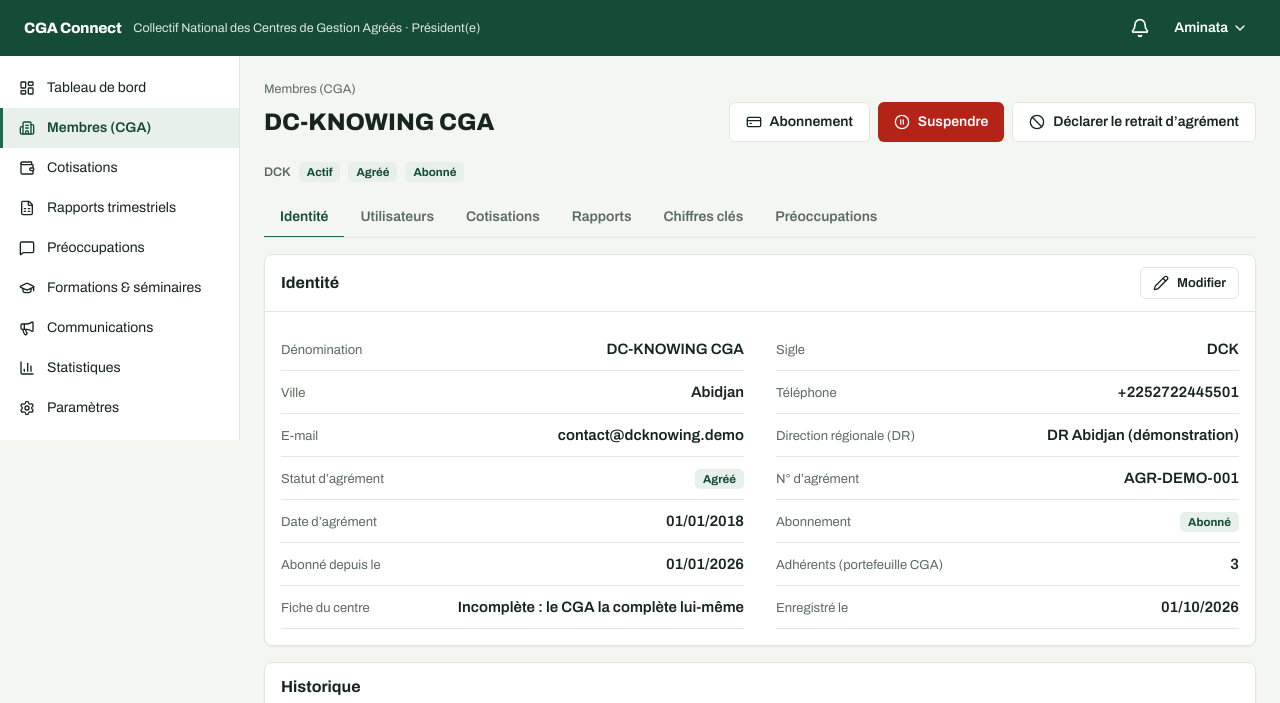
Test: Modifier la fiche en place (03-APPFLOW §3.2) › 03-APPFLOW §7 · refus 422 : sous le champ, saisie conservée, toujours en modification
The width and height of the screenshot is (1280, 703).
Expected: the heading "DC-KNOWING CGA" is shown, x1=264 y1=106 x2=494 y2=138
Click the button "Modifier".
click(1190, 283)  # box x1=1140 y1=267 x2=1239 y2=299
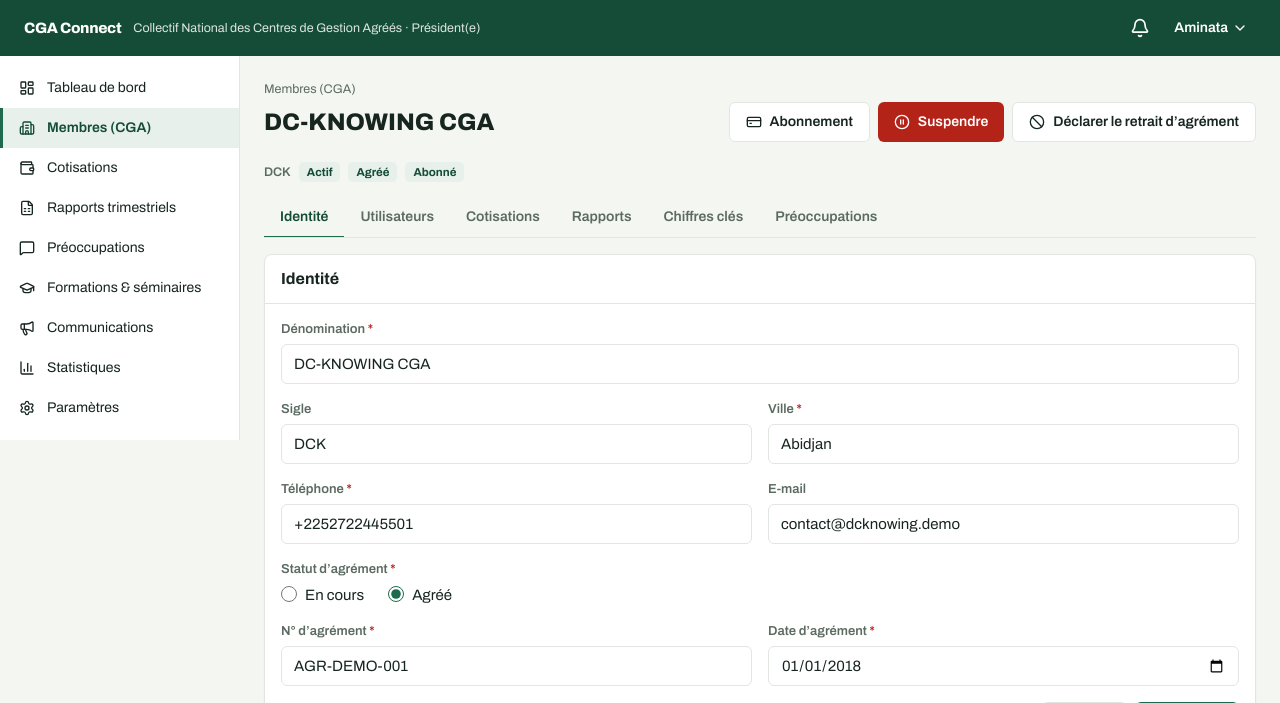
Replace the text in the field labelled "N° d’agrément *" with "AGR-DEMO-003" at (516, 666), box x1=281 y1=646 x2=752 y2=686
(page scrolled)
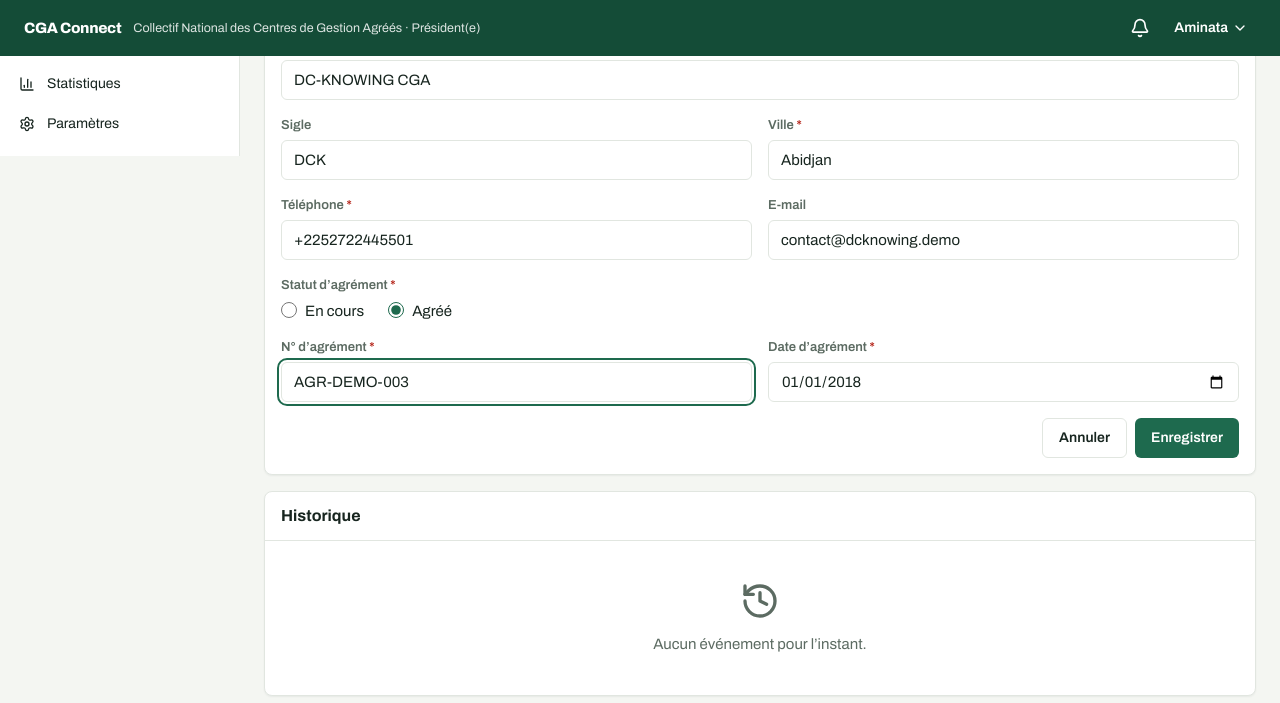
Click the button "Enregistrer".
click(1187, 438)  # box x1=1135 y1=418 x2=1239 y2=458
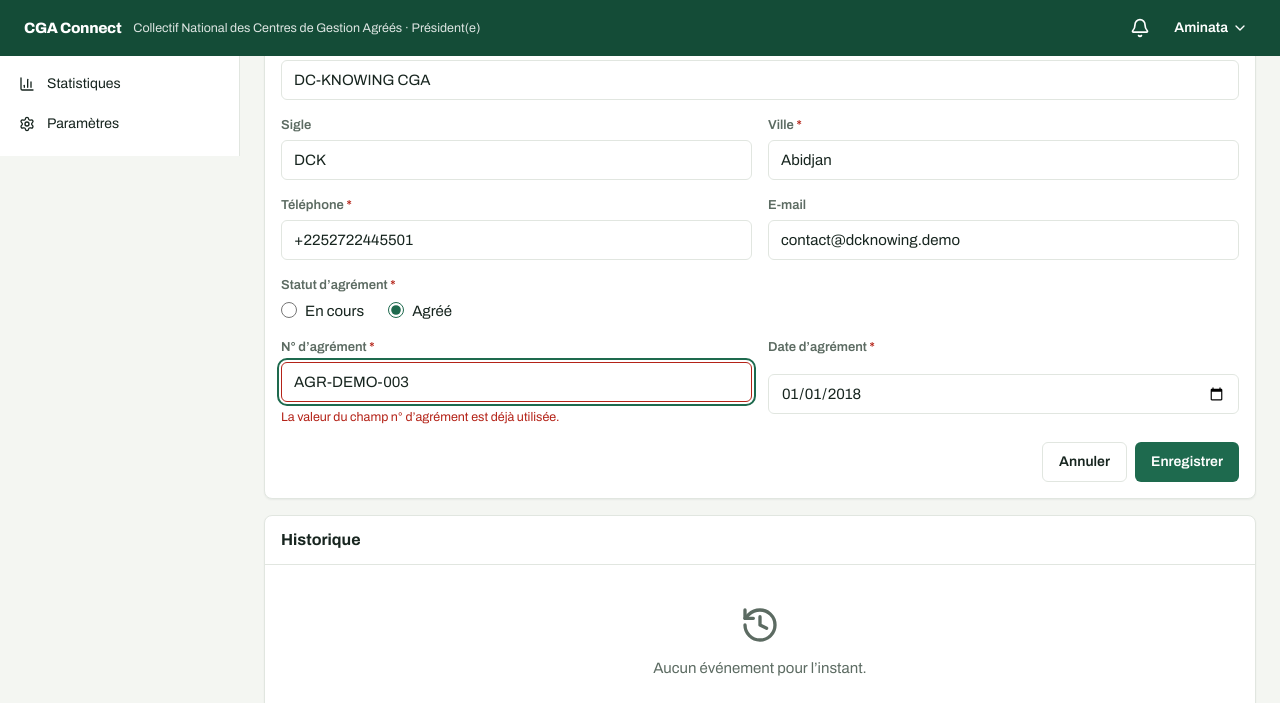
Expected: the text "La valeur du champ n° d’agrément est déjà utilisée." is shown, x1=281 y1=410 x2=560 y2=424
